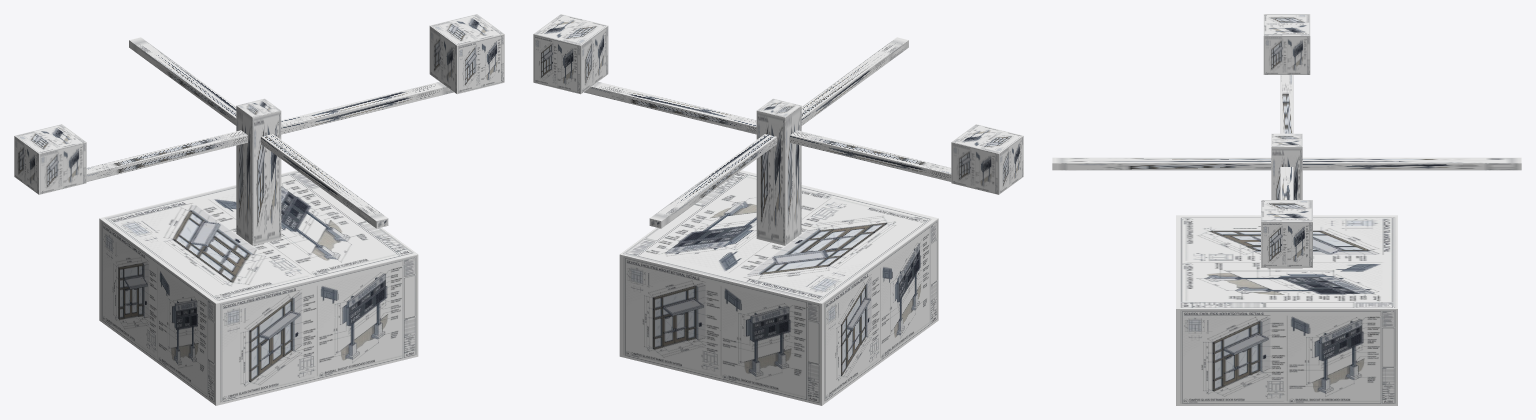
File: sf_anim_orrery_planetarium.glb
3 renders of one model, left to right at view 1: azimuth 30°, elevation 25°; view 2: azimuth 150°, elevation 25°; view 3: azimuth 270°, elevation 25°, orthographic. The views are drawn at different scales.
Visible parts, largest first — view 1: SolarSystemOrrery_Root, SolarSystemOrrery_AnimPart; view 2: SolarSystemOrrery_Root, SolarSystemOrrery_AnimPart; view 3: SolarSystemOrrery_Root, SolarSystemOrrery_AnimPart.
Boxes of the visible parts, <box> form: SolarSystemOrrery_Root: <box>99,98,418,405</box>; SolarSystemOrrery_AnimPart: <box>14,14,504,228</box>; SolarSystemOrrery_Root: <box>619,98,938,405</box>; SolarSystemOrrery_AnimPart: <box>533,14,1023,228</box>; SolarSystemOrrery_Root: <box>1176,133,1397,405</box>; SolarSystemOrrery_AnimPart: <box>1052,14,1521,267</box>.
Bounding box in the file's own units: 3.9 × 2.07 × 3.6.
1 material, 1 textured.
